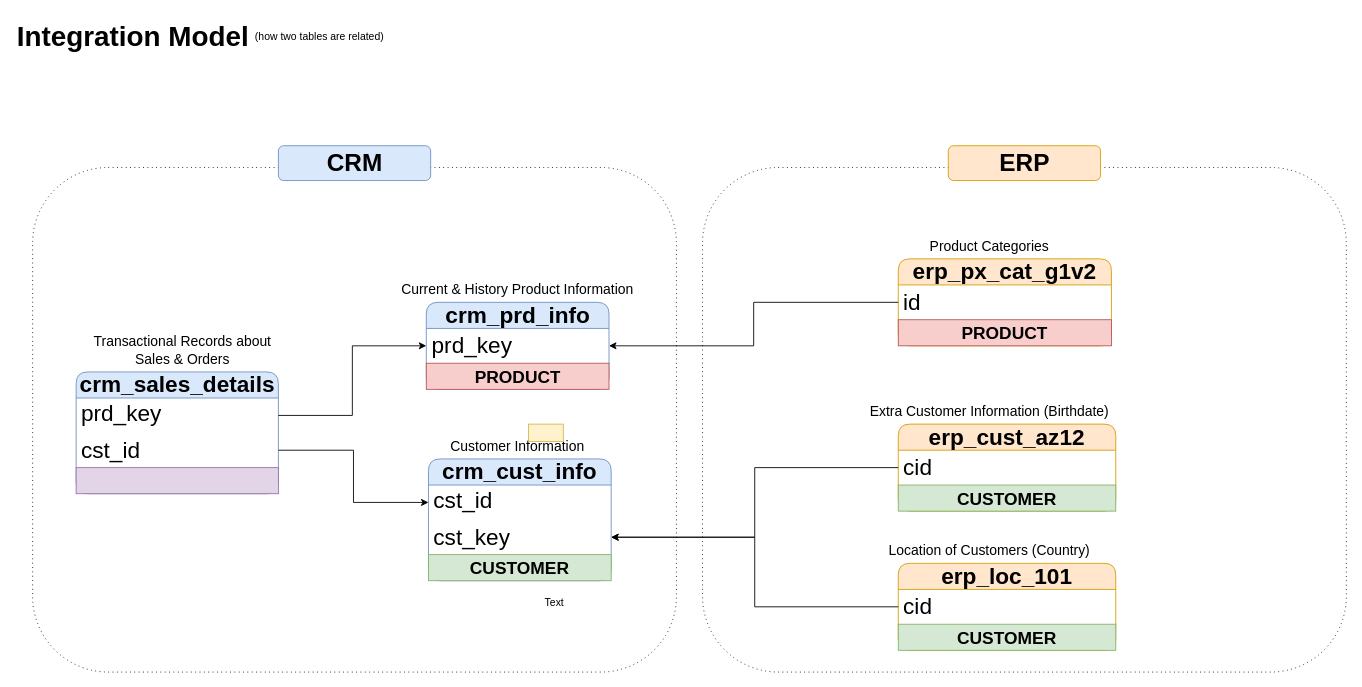
Image size: 1362x687. Some labels were removed from this diagram. Here are the shapes that lost their labels. From the top down, the centre of each, then its label:
[545,432]: A01
[176,480]: SALES
